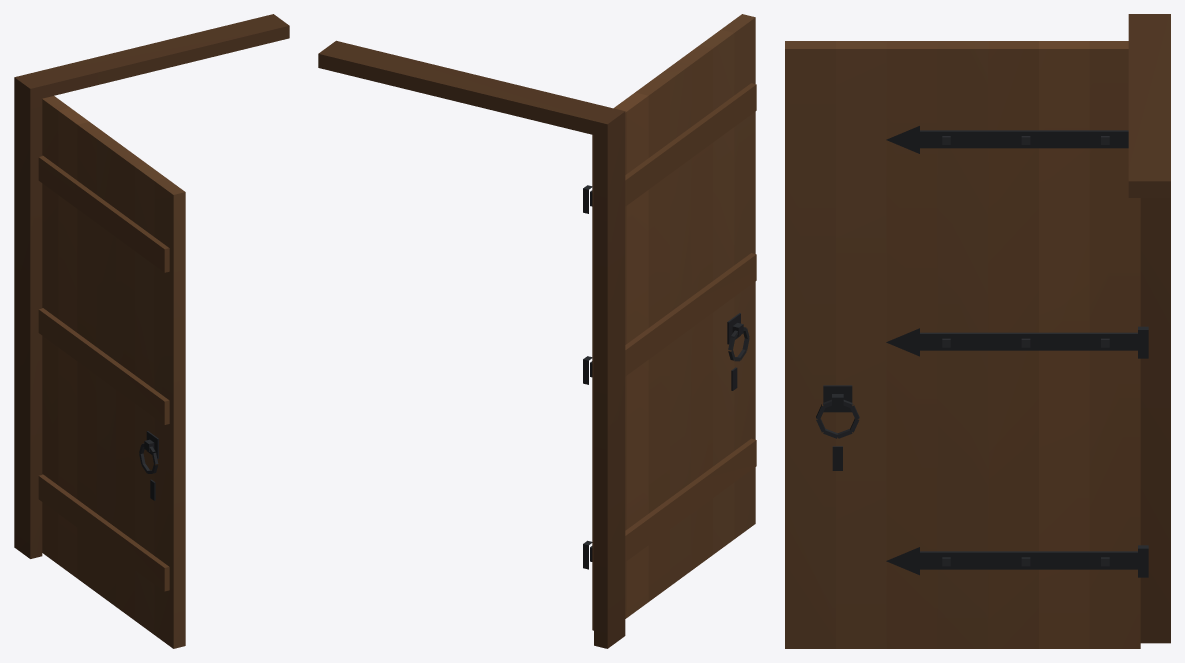
The model's file is door.oak_slim_open_pair.oak.glb.
The picture shows the model from 3 angles, left to right: view 1: azimuth 30°, elevation 25°; view 2: azimuth 150°, elevation 25°; view 3: azimuth 270°, elevation 25°; orthographic projection. The views are drawn at different scales.
Parts seen in each view (by area): view 1: door_oak_slim_open_pair_oak; view 2: door_oak_slim_open_pair_oak; view 3: door_oak_slim_open_pair_oak.
Part boxes in pixels (x1,y1,x2,y2): door_oak_slim_open_pair_oak: (14,14,289,648); door_oak_slim_open_pair_oak: (318,14,756,648); door_oak_slim_open_pair_oak: (785,14,1170,648).
Size of what is drawn, in the model's own units: 1.5 by 2.6 by 1.46.
